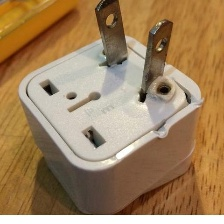three_eye_plug: (15, 0, 208, 217)
